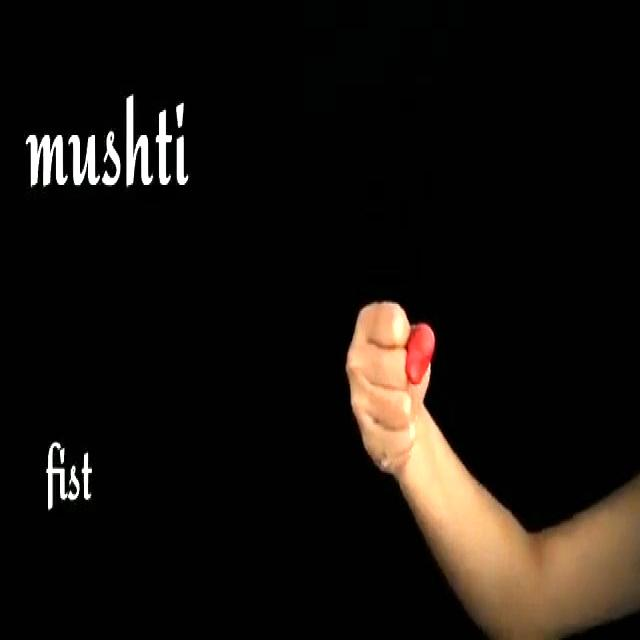Mushti: (324, 237, 464, 506)
text: (16, 87, 210, 196), (39, 432, 105, 518)
